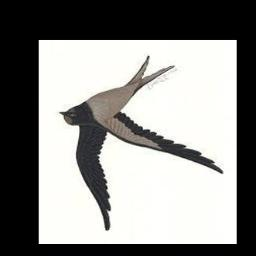Swallow: (58, 57, 224, 231)
